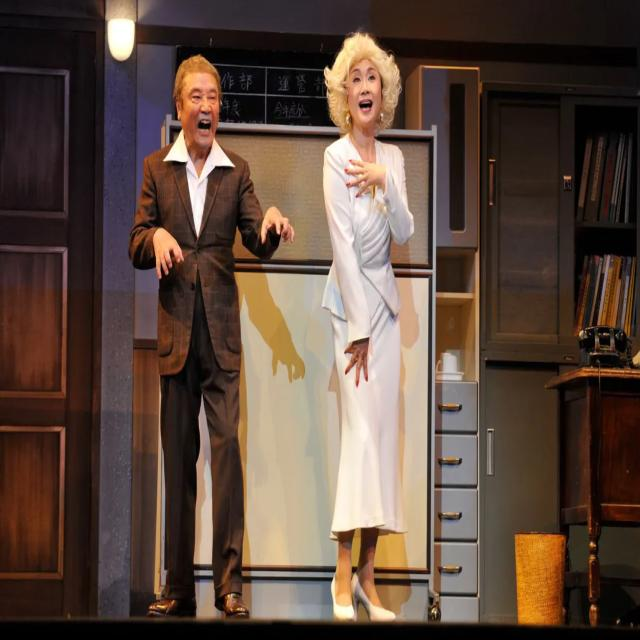stand: (144, 42, 255, 624), (317, 23, 410, 628)
